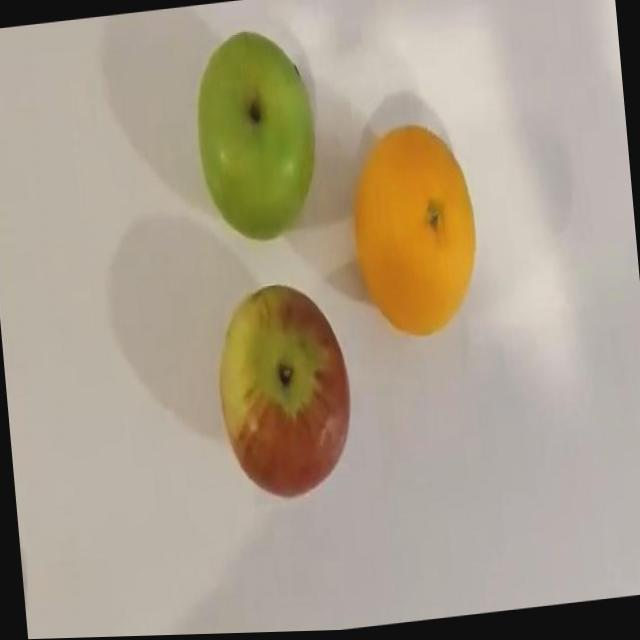Apple: (210, 277, 358, 506), (188, 24, 323, 248)
Orange: (344, 118, 484, 346)
